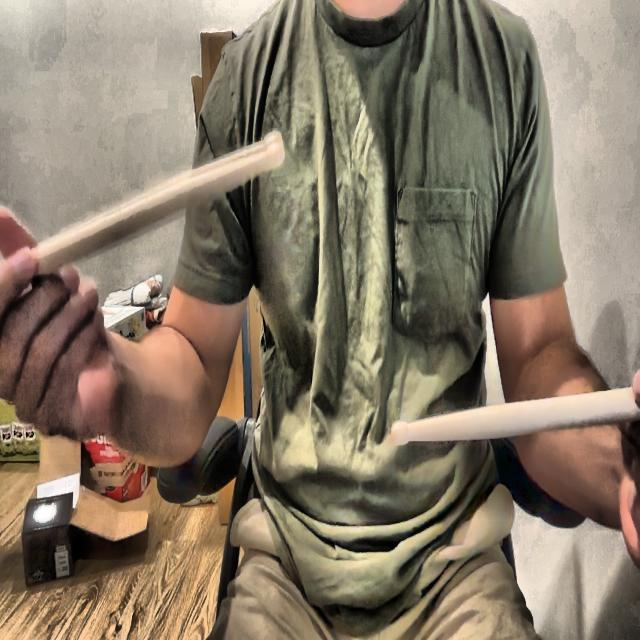Drumstick-Heads: (263, 127, 288, 174), (392, 408, 414, 451)
